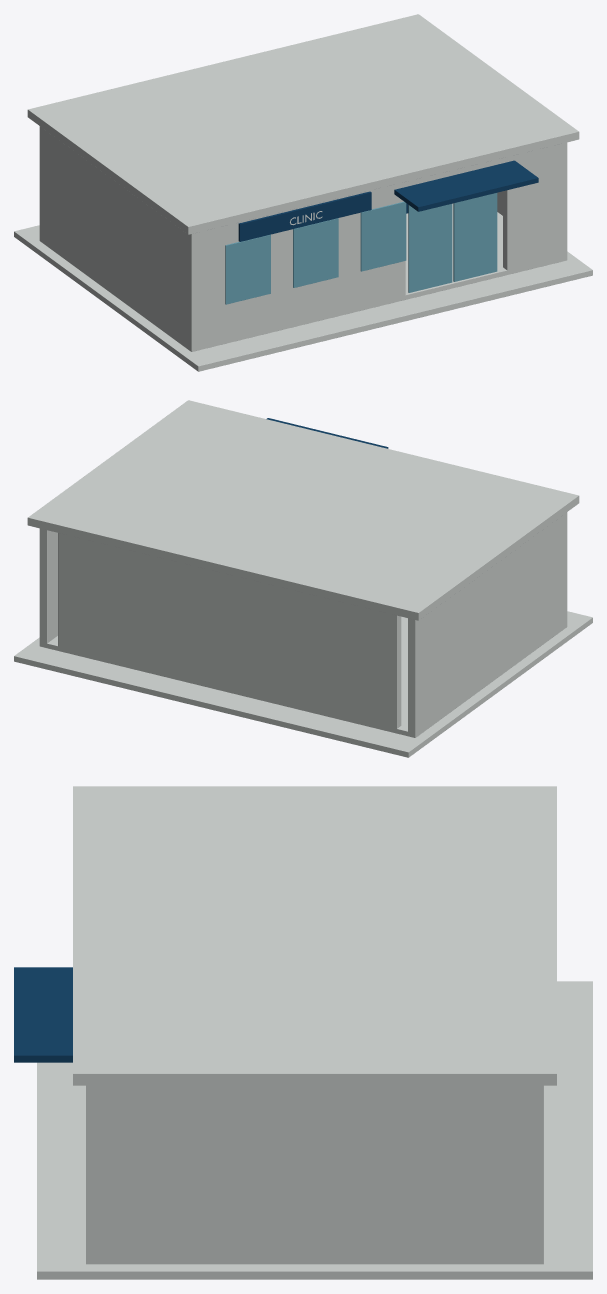
File: edited.glb
The picture shows the model from 3 angles, top to bottom: view 1: azimuth 30°, elevation 25°; view 2: azimuth 150°, elevation 25°; view 3: azimuth 270°, elevation 25°; orthographic projection. The views are drawn at different scales.
Visible parts, largest first — view 1: ROOF, SIDE_Wall, FRONT_Wall, BASE, FRONT_Wall.001, ENTRY_GlassDoor, FLOOR, ENTRY_GlassDoor.001, ENTRY_Canopy, WAITING_Window.002, WAITING_Window, WAITING_Window.001 (+2 smaller); view 2: ROOF, BACK_Wall, SIDE_Wall, BASE, FLOOR, SIDE_Wall.001; view 3: ROOF, SIDE_Wall.001, BASE, ENTRY_Canopy, FLOOR.
Boxes of the visible parts, x1,y1,x2,y2 form: ROOF: (27, 14, 579, 234); SIDE_Wall: (39, 126, 197, 347); FRONT_Wall: (195, 182, 405, 346); BASE: (14, 225, 592, 371); FRONT_Wall.001: (503, 142, 567, 270); ENTRY_GlassDoor: (408, 204, 452, 292); FLOOR: (39, 203, 567, 351); ENTRY_GlassDoor.001: (453, 193, 497, 281); ENTRY_Canopy: (394, 160, 538, 211); WAITING_Window.002: (360, 201, 406, 271); WAITING_Window: (225, 234, 270, 304); WAITING_Window.001: (293, 218, 338, 287); ROOF: (27, 400, 579, 620); BACK_Wall: (58, 533, 401, 728); SIDE_Wall: (408, 512, 567, 733); BASE: (14, 611, 592, 757); FLOOR: (39, 616, 567, 737); SIDE_Wall.001: (39, 528, 57, 643); ROOF: (73, 786, 556, 1085); SIDE_Wall.001: (86, 1085, 543, 1257); BASE: (37, 981, 592, 1279); ENTRY_Canopy: (14, 967, 72, 1062); FLOOR: (86, 1257, 543, 1264).
Bounding box in the file's own units: 10.5 × 3.45 × 8.85.
